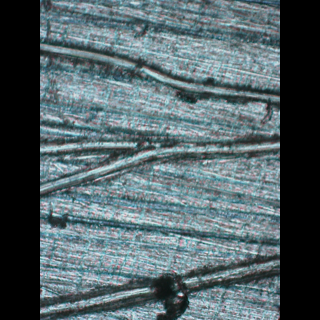d: (40, 119, 280, 201), (40, 36, 280, 111), (40, 252, 278, 320)
